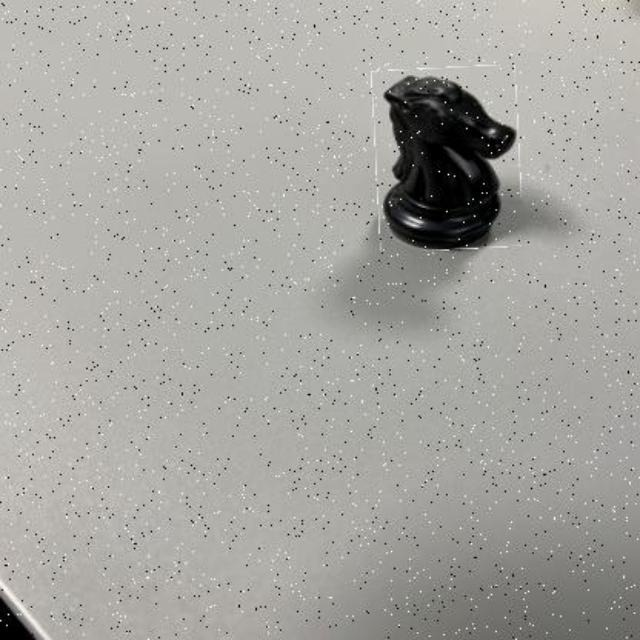black-knight: (373, 67, 520, 251)
